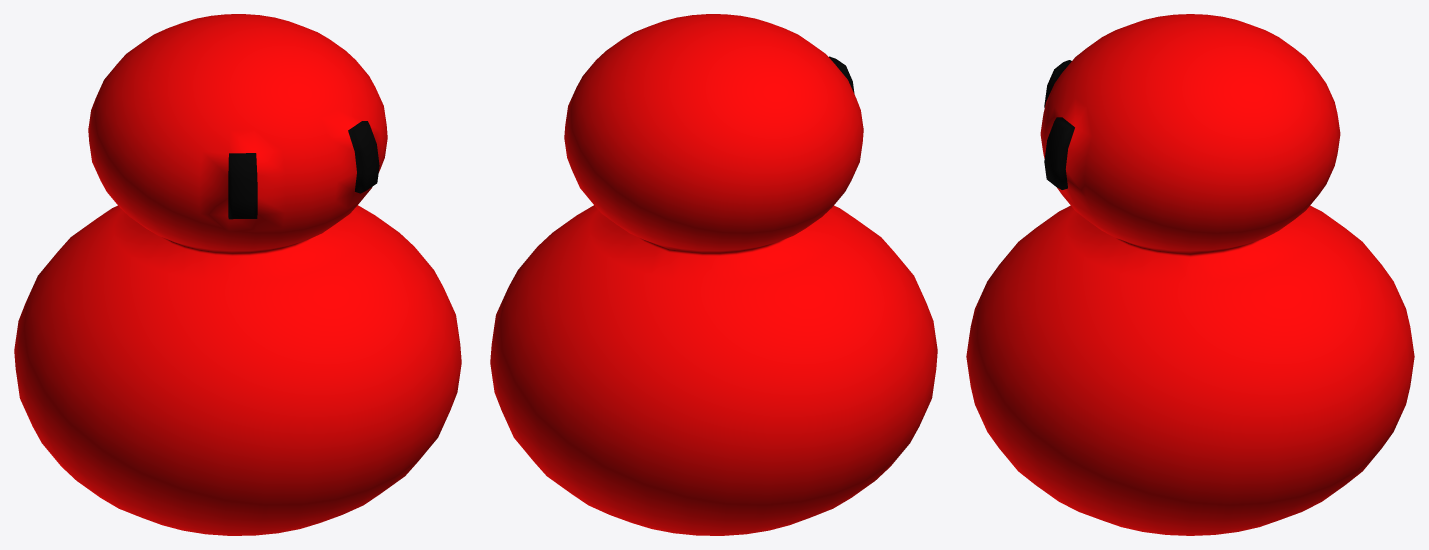
Rendered from character.fbx.
3 renders of one model, left to right at view 1: azimuth 30°, elevation 25°; view 2: azimuth 150°, elevation 25°; view 3: azimuth 270°, elevation 25°, orthographic.
Parts seen in each view (by area): view 1: Sphere.001; view 2: Sphere.001; view 3: Sphere.001.
Part boxes in pixels (x1=…): Sphere.001: x1=14, y1=14, x2=461, y2=535; Sphere.001: x1=490, y1=14, x2=937, y2=535; Sphere.001: x1=966, y1=14, x2=1414, y2=535.
Bounding box in the file's own units: 299 × 351 × 299.
